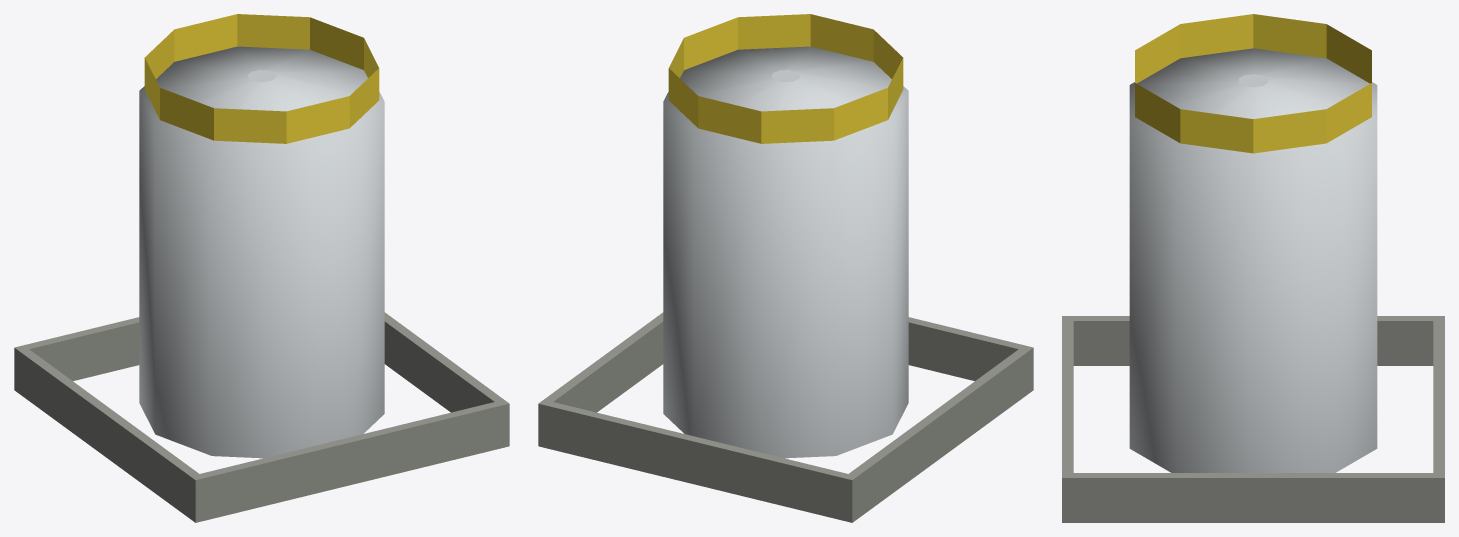
The model's file is port_cargo2_far.fbx.
3 renders of one model, left to right at view 1: azimuth 30°, elevation 25°; view 2: azimuth 150°, elevation 25°; view 3: azimuth 270°, elevation 25°, orthographic. The views are drawn at different scales.
Parts seen in each view (by area): view 1: a402_0_port_cargo2_far; view 2: a402_0_port_cargo2_far; view 3: a402_0_port_cargo2_far.
Part boxes in pixels (bbox=[...]): a402_0_port_cargo2_far: bbox=[14, 14, 509, 522]; a402_0_port_cargo2_far: bbox=[538, 14, 1033, 522]; a402_0_port_cargo2_far: bbox=[1062, 14, 1444, 522].
Size of the model in its own units: 10 by 10.82 by 10.
